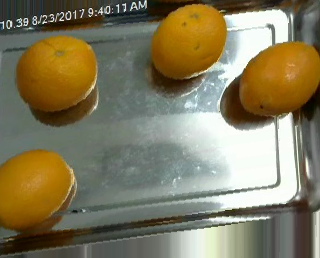Orange: (16, 35, 98, 113), (238, 40, 319, 116), (150, 4, 228, 80), (1, 148, 74, 229)
